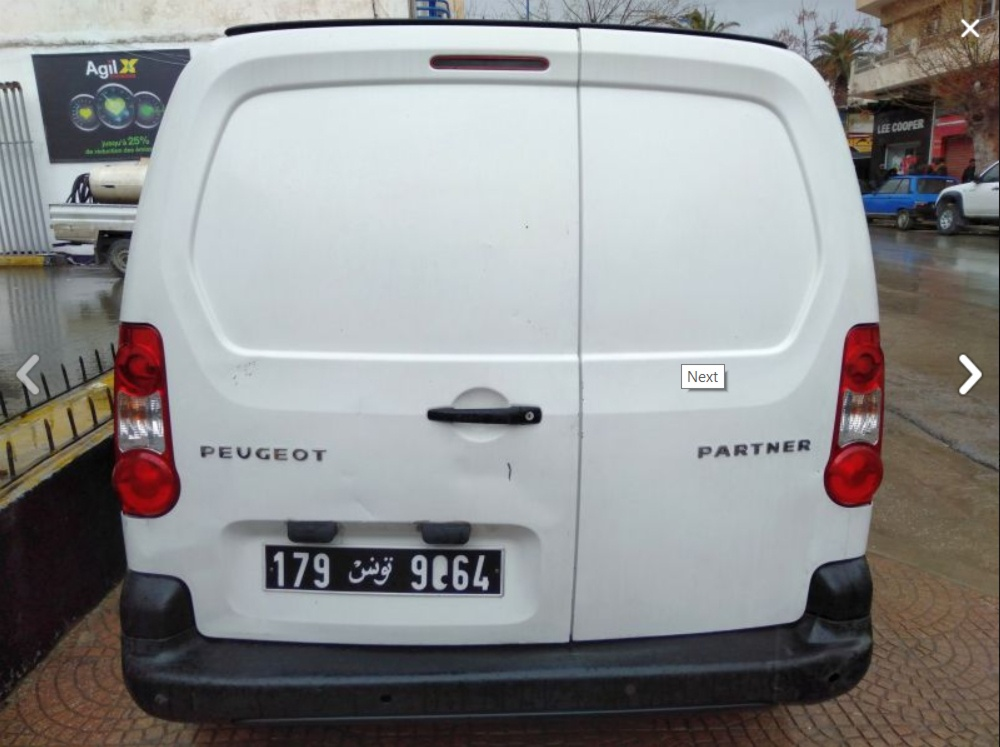LP: (255, 540, 512, 601)
